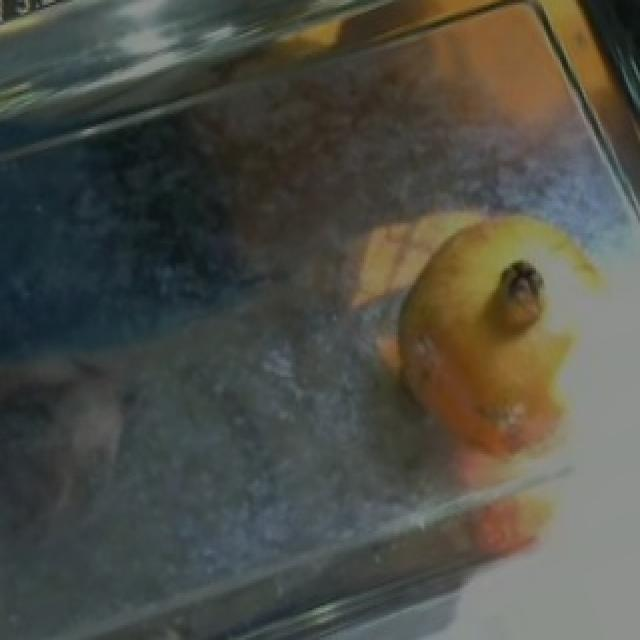fruit: (372, 184, 632, 424)
